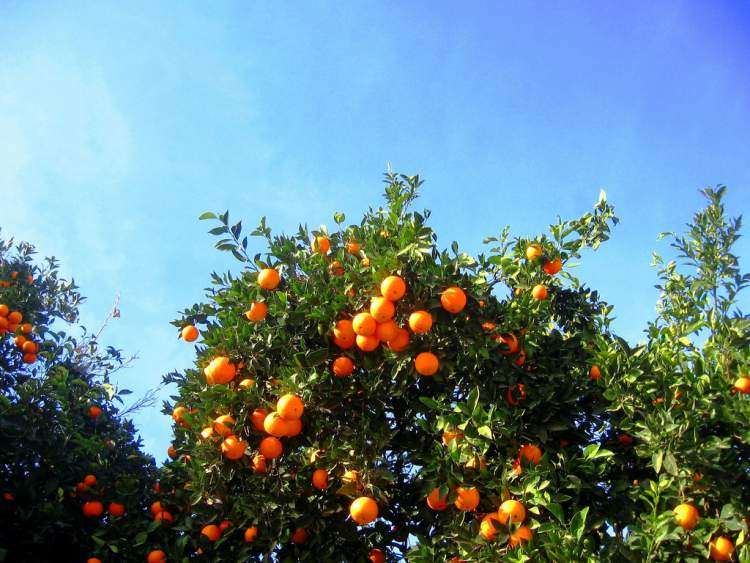portakal: (409, 350, 462, 400), (241, 246, 291, 295), (293, 453, 336, 501), (664, 495, 707, 539), (343, 497, 391, 536), (372, 262, 420, 301), (276, 372, 313, 421), (437, 280, 473, 328), (172, 312, 208, 351), (498, 486, 532, 526), (712, 523, 744, 563), (515, 434, 544, 472), (585, 354, 610, 396), (733, 359, 750, 419), (526, 274, 552, 313), (78, 392, 109, 424), (308, 224, 333, 260), (200, 360, 232, 386), (105, 492, 128, 528), (521, 234, 542, 266), (143, 542, 174, 563), (165, 401, 191, 425)
